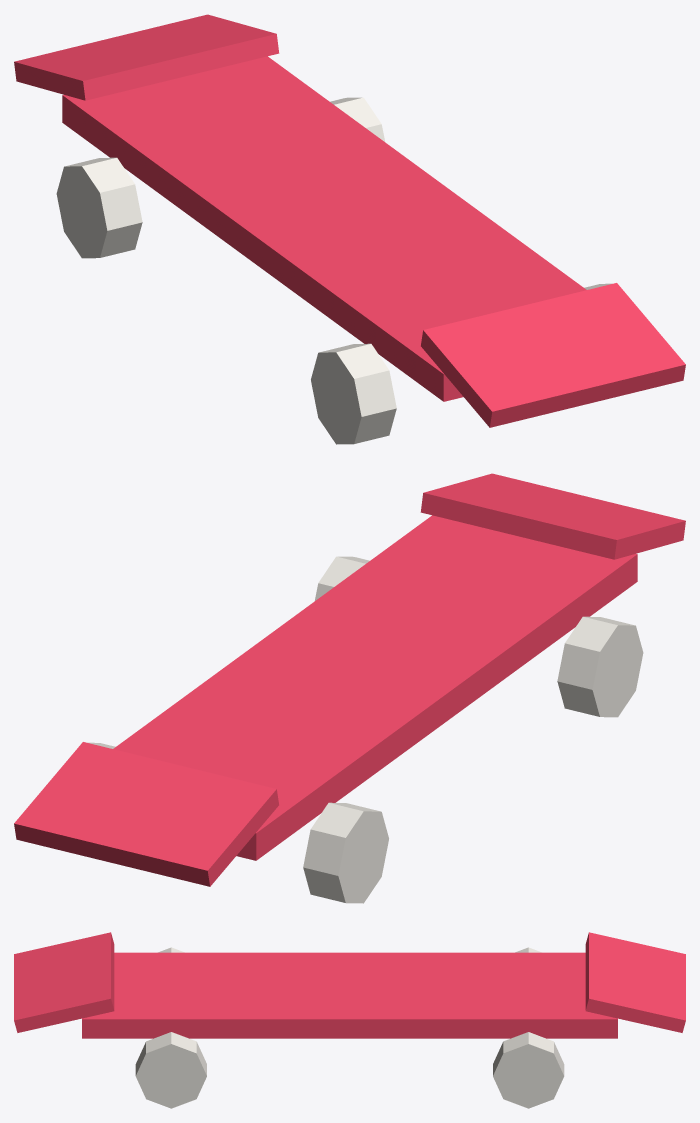
Rendered from Skate_Skateboard.fbx.
3 views of the same model, one above another, from view 1: azimuth 30°, elevation 25°; view 2: azimuth 150°, elevation 25°; view 3: azimuth 270°, elevation 25° (orthographic). The views are drawn at different scales.
Parts seen in each view (by area): view 1: Skateboard; view 2: Skateboard; view 3: Skateboard.
Boxes of the visible parts, bbox=[...] form: Skateboard: bbox=[14, 14, 685, 444]; Skateboard: bbox=[14, 473, 685, 903]; Skateboard: bbox=[14, 932, 685, 1108].
Bounding box in the file's own units: 0.32 × 0.1466 × 0.9407.
